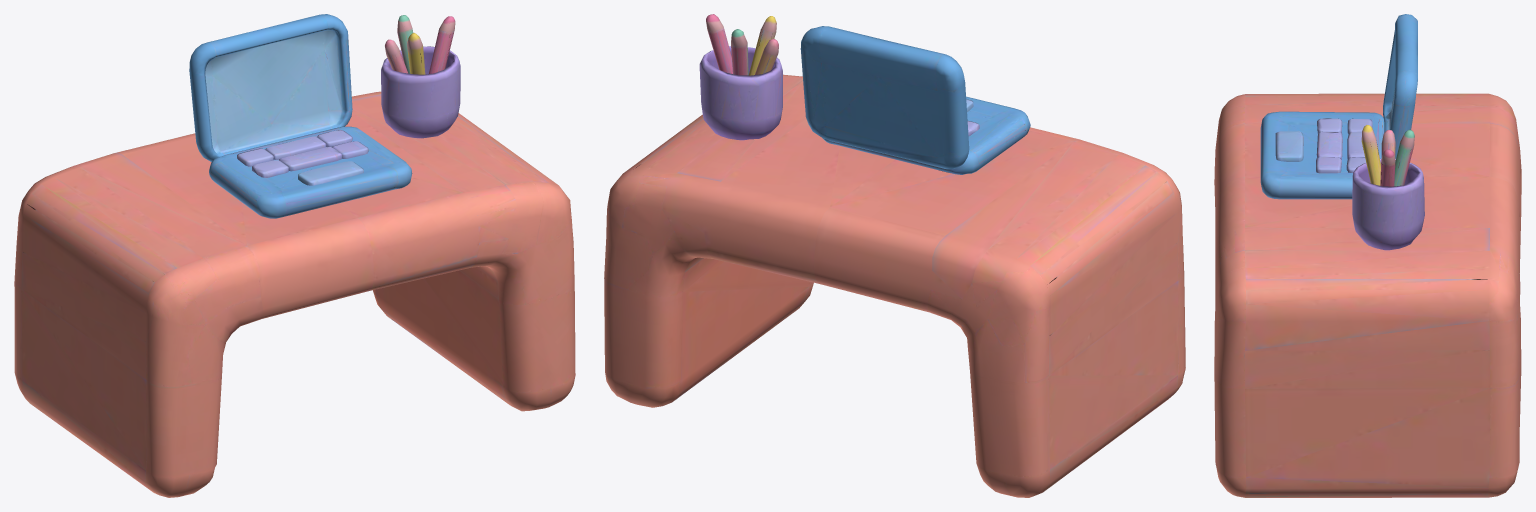
File: desk.glb
3 renders of one model, left to right at view 1: azimuth 30°, elevation 25°; view 2: azimuth 150°, elevation 25°; view 3: azimuth 270°, elevation 25°, orthographic. The views are drawn at different scales.
Parts seen in each view (by area): view 1: geometry_0; view 2: geometry_0; view 3: geometry_0.
Boxes of the visible parts, box(x1,y1,x2,y2) form: geometry_0: box(14, 14, 575, 497); geometry_0: box(604, 14, 1185, 497); geometry_0: box(1214, 14, 1521, 497).
Bounding box in the file's own units: 1 × 0.8256 × 0.6384.
1 material, 1 textured.
